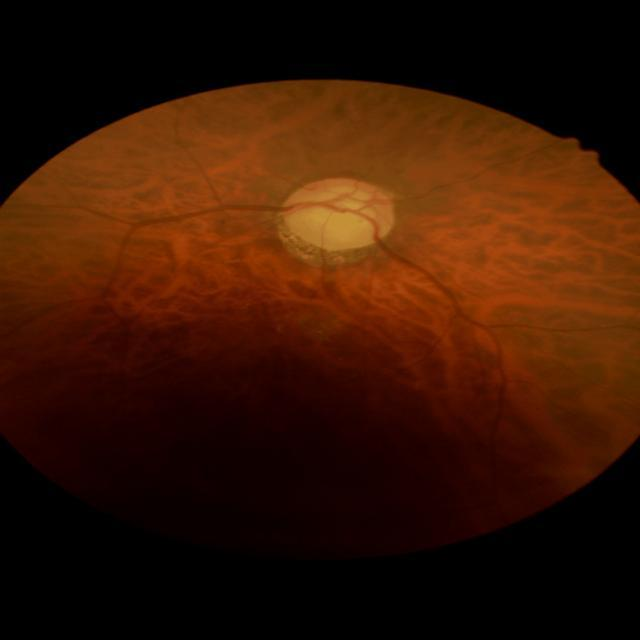cup: (289, 185, 379, 239)
disk: (282, 177, 397, 249)
